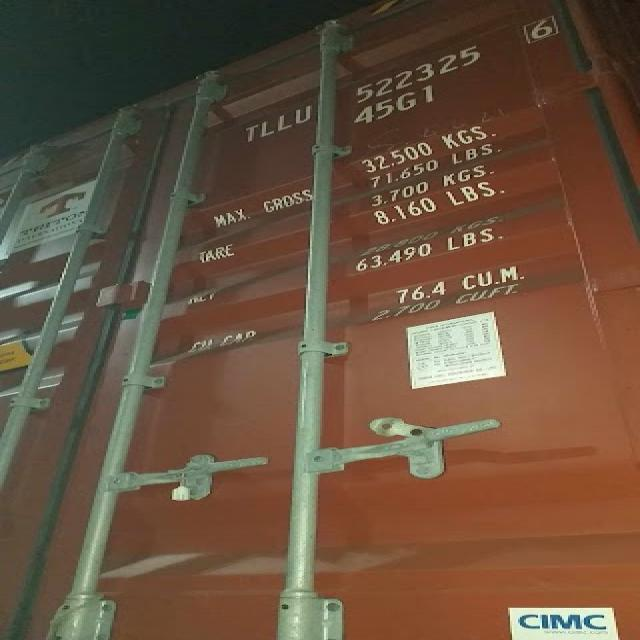ISO: (354, 75, 446, 128)
container_number: (236, 0, 568, 145)
